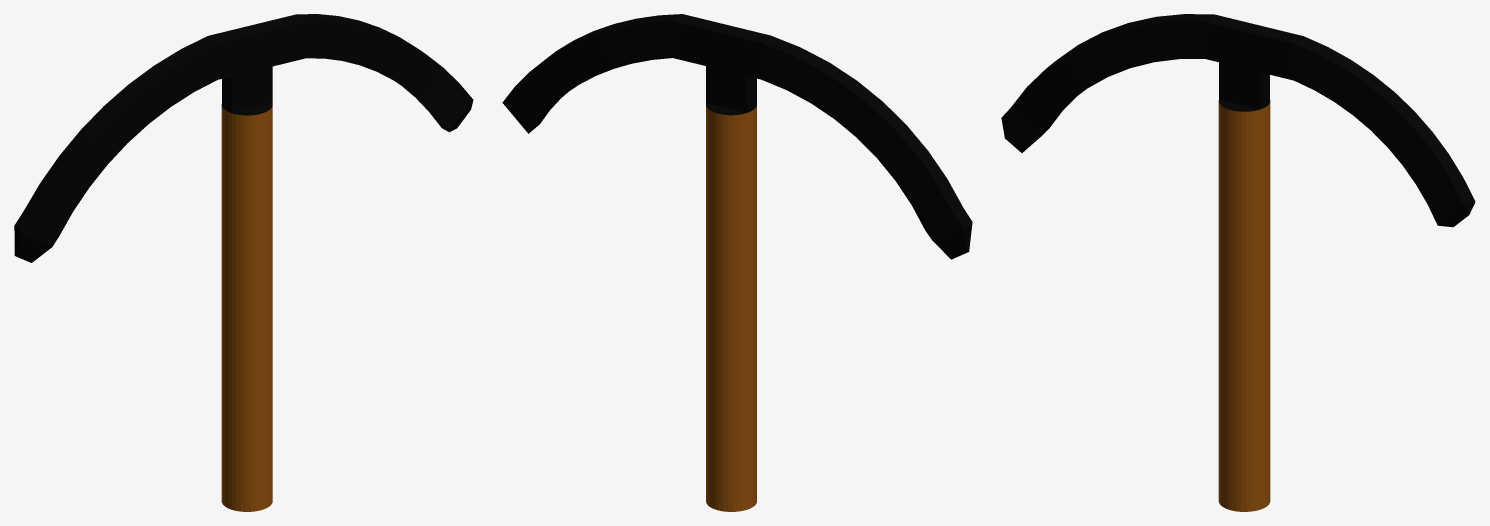
File: Pioche.fbx
3 renders of one model, left to right at view 1: azimuth 30°, elevation 25°; view 2: azimuth 150°, elevation 25°; view 3: azimuth 330°, elevation 25°, orthographic.
Parts seen in each view (by area): view 1: Cylinder; view 2: Cylinder; view 3: Cylinder.
Part boxes in pixels (bbox=[...]): Cylinder: bbox=[14, 14, 473, 511]; Cylinder: bbox=[502, 14, 972, 511]; Cylinder: bbox=[1001, 14, 1475, 511].
Bounding box in the file's own units: 1332 × 1305 × 129.
